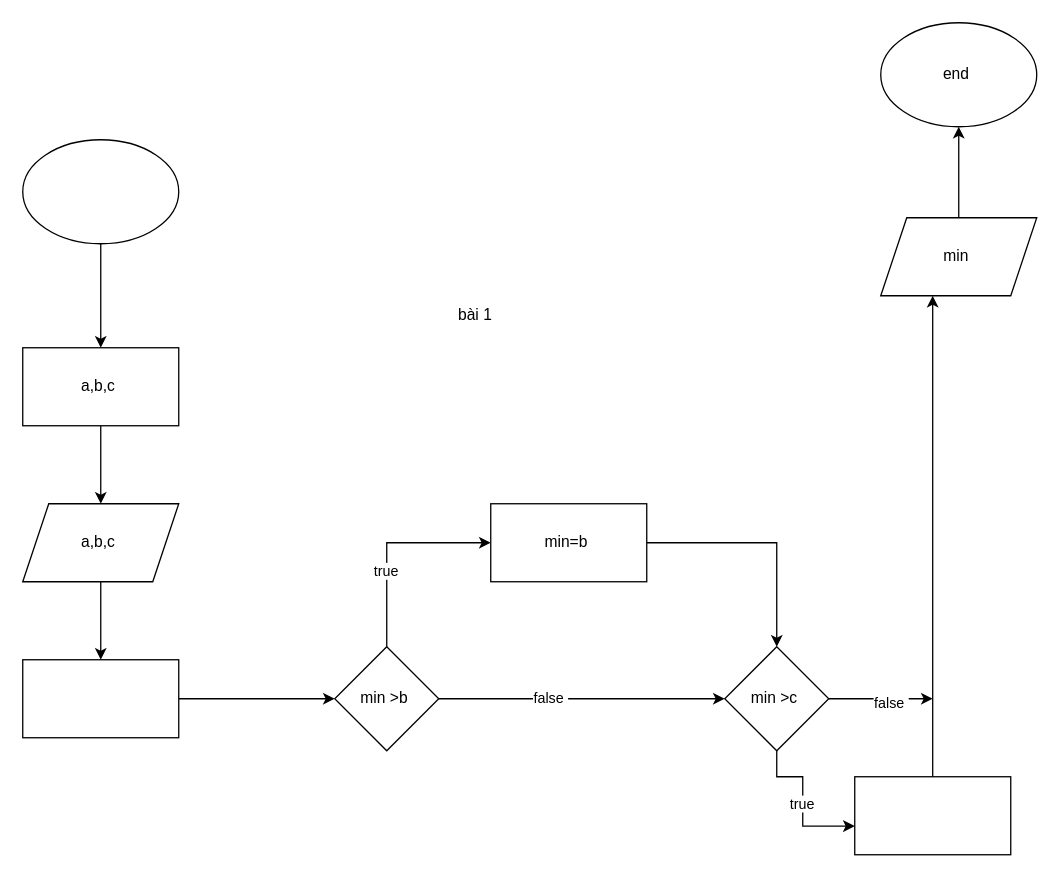
Image size: 1060x877. Some labels were removed from this diagram. The shapes that lost their labels are listed below. From the top down, each one's box as (x1, y1, x2, y2) in pixels, then its label:
(21, 138, 179, 244): START
(21, 658, 179, 738): min = a
(853, 775, 1011, 855): min = c
